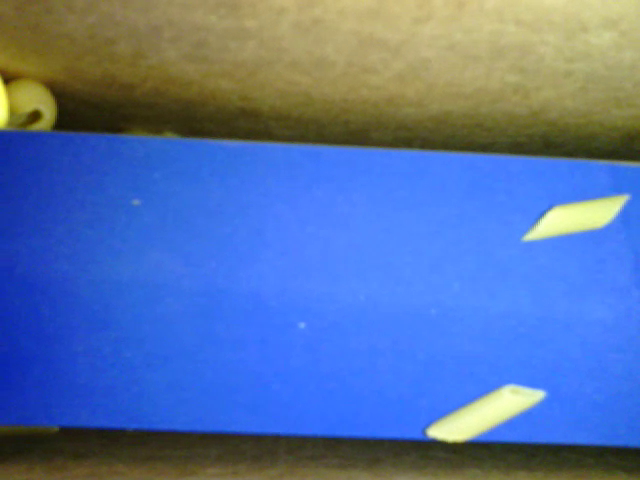penne: (426, 383, 547, 445), (521, 194, 630, 246)
shell: (4, 77, 62, 131)
